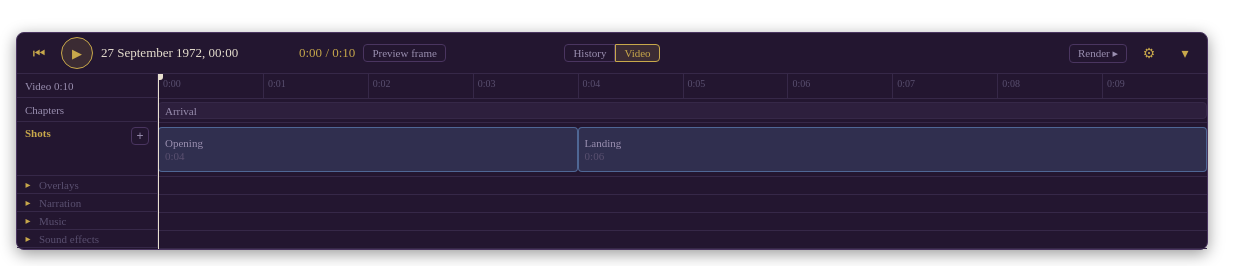
Scenario: Video mode › opens a folded lane to say what will go on it
Click the button "▸" next to "Music": (28, 220) x1=19 y1=212 x2=37 y2=230
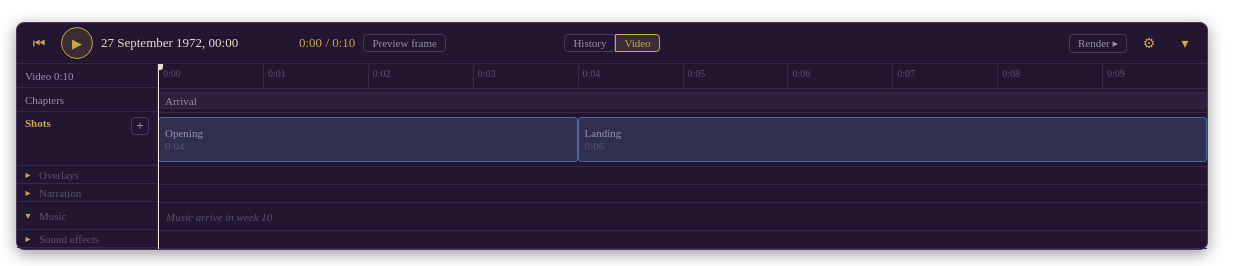
Expected: the text "Music arrive in week 10" is shown, x1=166 y1=210 x2=272 y2=222
